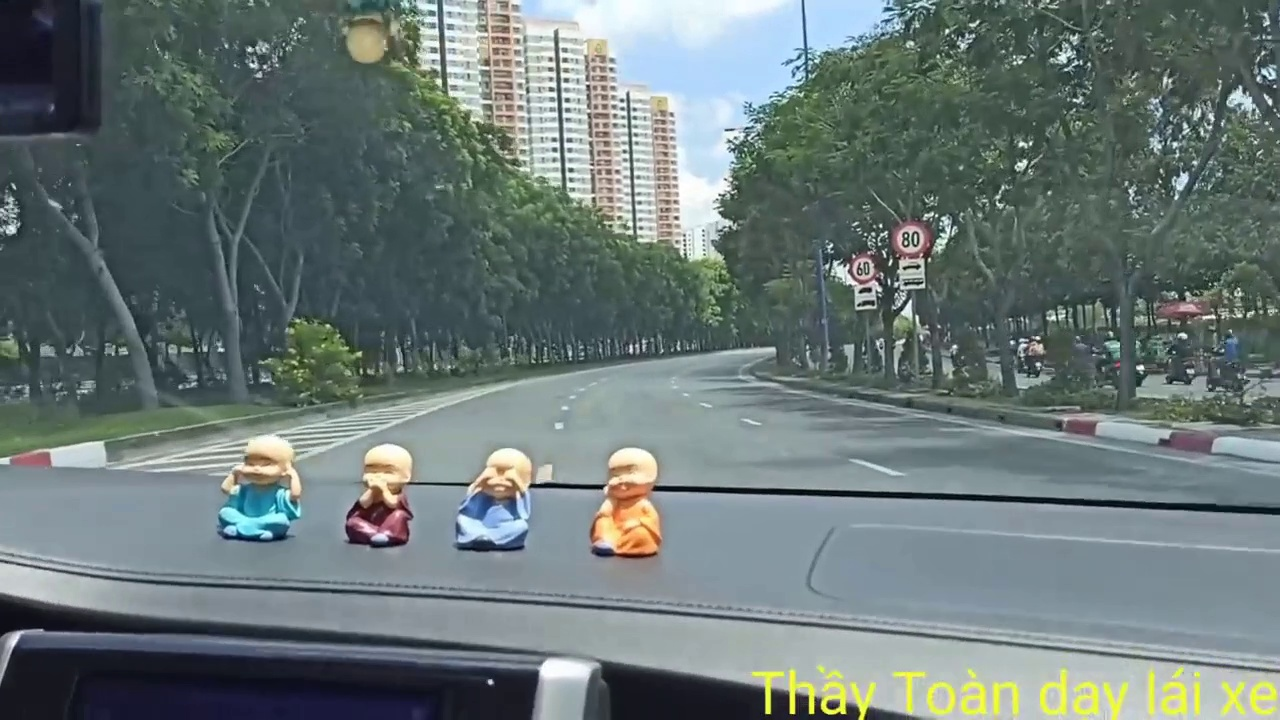Giới hạn tốc độ 60: (849, 252, 877, 285)
Giới hạn tốc độ 80: (888, 216, 928, 257)
